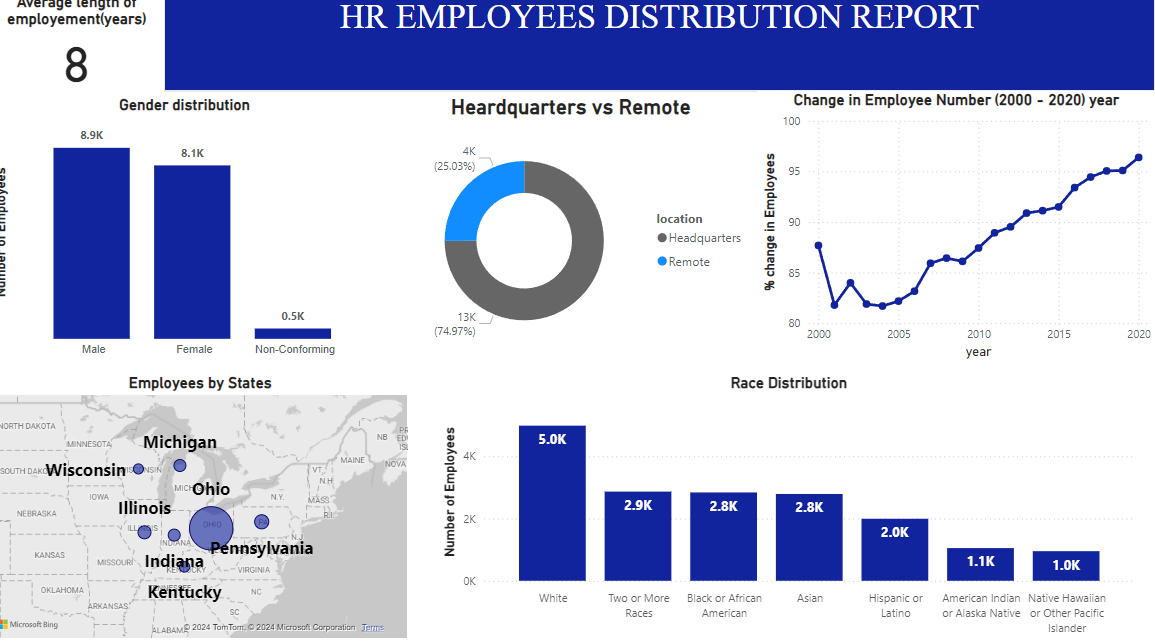

This screenshot's page, from the dashboard's own definition file:
{"tool":"powerbi","page":{"name":"Page 1","canvas":[1280,720],"ordinal":0},"visuals":[{"type":"textbox","box":[192.1,0,1088.2,108.4],"z":0},{"type":"card","title":"Average length of employement(years)","fields":{"Values":["Sum(avg employment.avg_length_employment)"]},"box":[0,0,192.1,108.4],"z":1000},{"type":"columnChart","title":"Gender distribution","fields":{"Category":["gender.gender"],"Y":["Sum(gender.total)"]},"box":[0,113.9,429.5,295],"z":2000},{"type":"donutChart","title":"Heardquarters vs Remote","fields":{"Category":["location.location"],"Y":["Sum(location.total)"]},"box":[437.7,112.5,402.1,295],"z":3000},{"type":"lineChart","title":"Change in Employee Number (2000 - 2020) year","fields":{"Category":["employee change.year"],"Y":["Sum(employee change.net_change_percent)"]},"box":[843.9,108.4,436.4,299.1],"z":4000},{"type":"map","title":"Employees by States","fields":{"Category":["states.location_state"],"Size":["Sum(states.total)"]},"box":[0,418.5,463.8,295],"z":5000},{"type":"clusteredColumnChart","title":" Race Distribution","fields":{"Category":["race.race"],"Y":["Sum(race.total)"]},"box":[492.6,418.5,771.2,295],"z":6000}]}

Visuals, with their boxes in screenshot pixels (x1, y1, x2, y2), scaled from the page's 1280x720 canvas onto the 1155x642 screenshot:
textbox: box(173, 0, 1154, 97)
"Average length of employement(years)" card: box(0, 0, 173, 97)
"Gender distribution" columnChart: box(0, 102, 388, 365)
"Heardquarters vs Remote" donutChart: box(395, 100, 758, 363)
"Change in Employee Number (2000 - 2020) year" lineChart: box(761, 97, 1154, 363)
"Employees by States" map: box(0, 373, 419, 636)
" Race Distribution" clusteredColumnChart: box(444, 373, 1140, 636)
